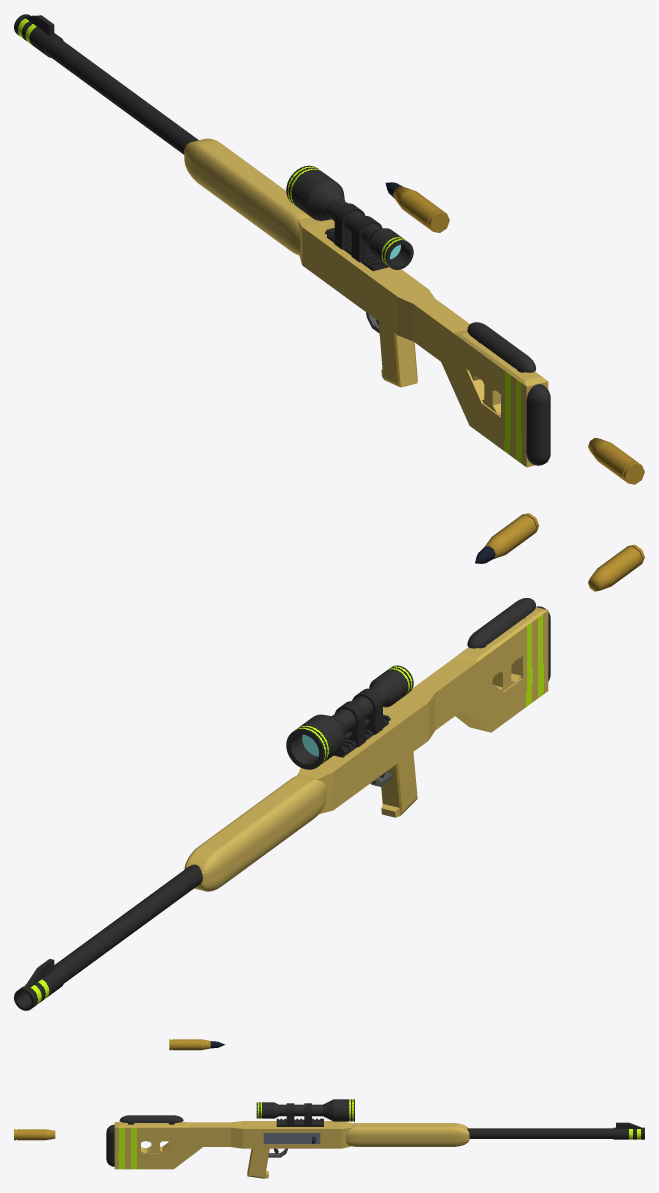
File: Lunatic_Sniper_update.obj
The picture shows the model from 3 angles, top to bottom: view 1: azimuth 30°, elevation 25°; view 2: azimuth 150°, elevation 25°; view 3: azimuth 270°, elevation 25°; orthographic projection. The views are drawn at different scales.
Parts seen in each view (by area): view 1: Full_Cylinder.007, Full_Round_Bullet, Spent_Casing_Casing; view 2: Full_Cylinder.007, Full_Round_Bullet, Spent_Casing_Casing; view 3: Full_Cylinder.007, Slide_Cube.020_Cube.007, Full_Round_Bullet, Spent_Casing_Casing.
Boxes of the visible parts, box(x1,y1,x2,y2) form: Full_Cylinder.007: box(14, 14, 550, 467); Full_Round_Bullet: box(385, 182, 449, 232); Spent_Casing_Casing: box(588, 438, 644, 484); Full_Cylinder.007: box(14, 598, 550, 1010); Full_Round_Bullet: box(475, 513, 538, 563); Spent_Casing_Casing: box(588, 544, 644, 591); Full_Cylinder.007: box(106, 1099, 644, 1178); Slide_Cube.020_Cube.007: box(263, 1133, 320, 1144); Full_Round_Bullet: box(169, 1039, 224, 1050); Spent_Casing_Casing: box(14, 1129, 55, 1140).
Size of the model in its own units: 2.48 by 7.05 by 31.96.
